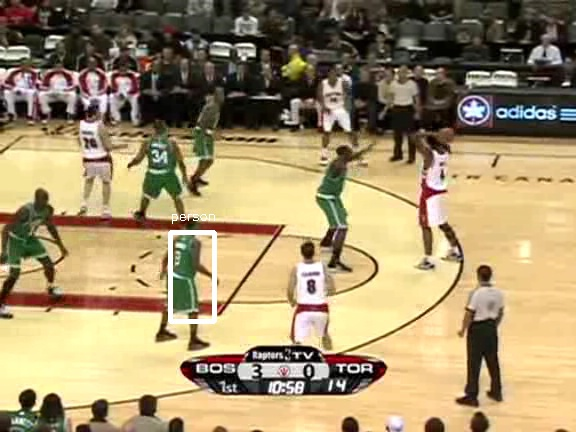person: (166, 235, 200, 316), (165, 235, 199, 316), (167, 235, 201, 316), (166, 234, 200, 315), (166, 236, 200, 317)
target_negative: (60, 185, 400, 413), (262, 74, 423, 314), (271, 61, 389, 172), (527, 201, 572, 320), (533, 359, 553, 368), (569, 398, 571, 406)
